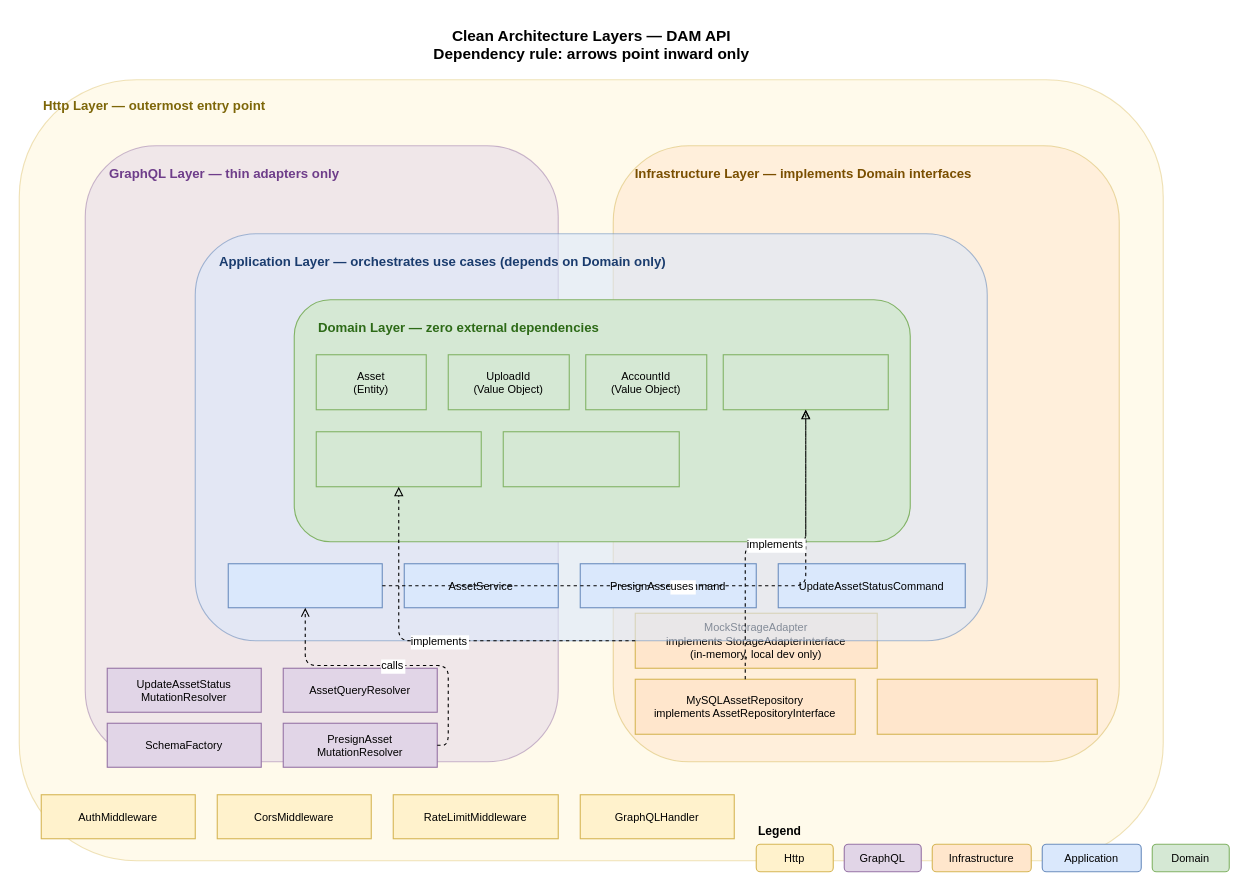
This 1249x891 diagram has some shape labels left out. Each missing label, with the centre of its shape:
"AssetRepositoryInterface" belongs at point (805, 382).
"AssetStatusChangedEvent" belongs at point (590, 459).
"CachedAssetRepository (Decorator — wraps MySQL repo)" belongs at point (986, 706).
"PresignService" belongs at point (304, 585).
"StorageAdapterInterface" belongs at point (398, 459).
